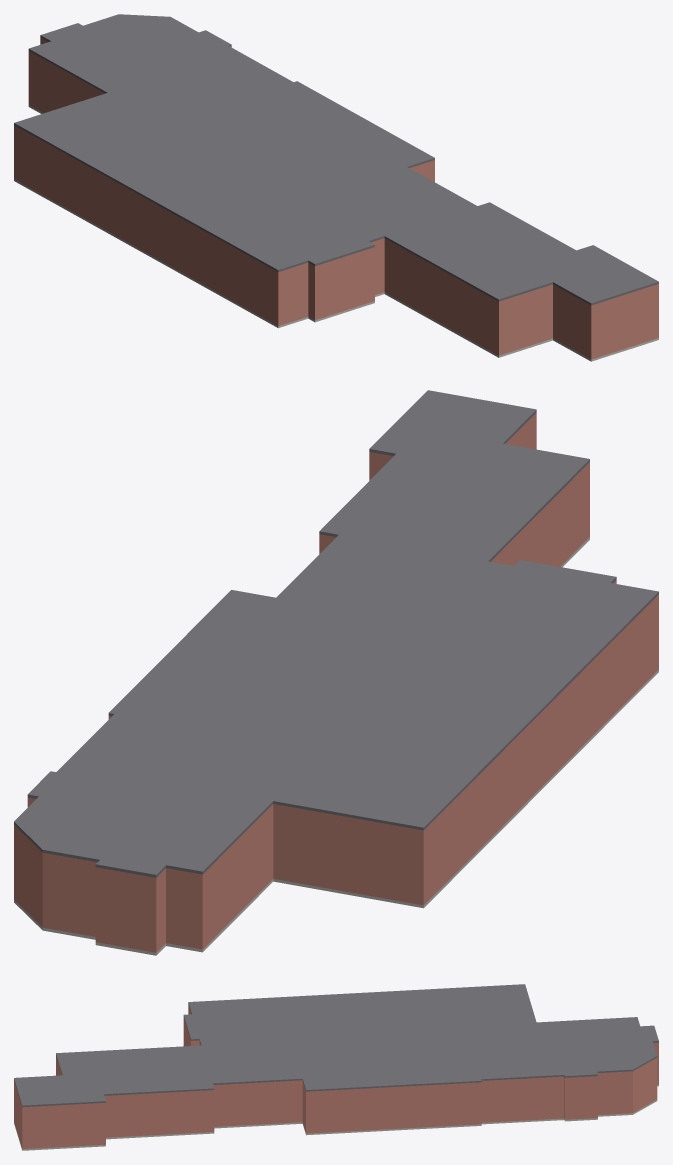
Rendered from whaling_museum.glb.
3 renders of one model, top to bottom at view 1: azimuth 30°, elevation 25°; view 2: azimuth 150°, elevation 25°; view 3: azimuth 270°, elevation 25°, orthographic. The views are drawn at different scales.
Visible parts, largest first — view 1: whaling_museum_roof, whaling_museum_walls, whaling_museum_plinth; view 2: whaling_museum_roof, whaling_museum_walls, whaling_museum_plinth; view 3: whaling_museum_roof, whaling_museum_walls, whaling_museum_plinth.
Boxes of the visible parts, x1=… form: whaling_museum_roof: x1=14, y1=14, x2=658, y2=305; whaling_museum_walls: x1=14, y1=37, x2=658, y2=359; whaling_museum_plinth: x1=14, y1=105, x2=658, y2=361; whaling_museum_roof: x1=14, y1=390, x2=658, y2=877; whaling_museum_walls: x1=14, y1=413, x2=658, y2=952; whaling_museum_plinth: x1=14, y1=537, x2=658, y2=955; whaling_museum_roof: x1=14, y1=984, x2=658, y2=1107; whaling_museum_walls: x1=14, y1=1004, x2=658, y2=1149; whaling_museum_plinth: x1=14, y1=1084, x2=658, y2=1150.
Bounding box in the file's own units: 49.69 × 8.62 × 111.
